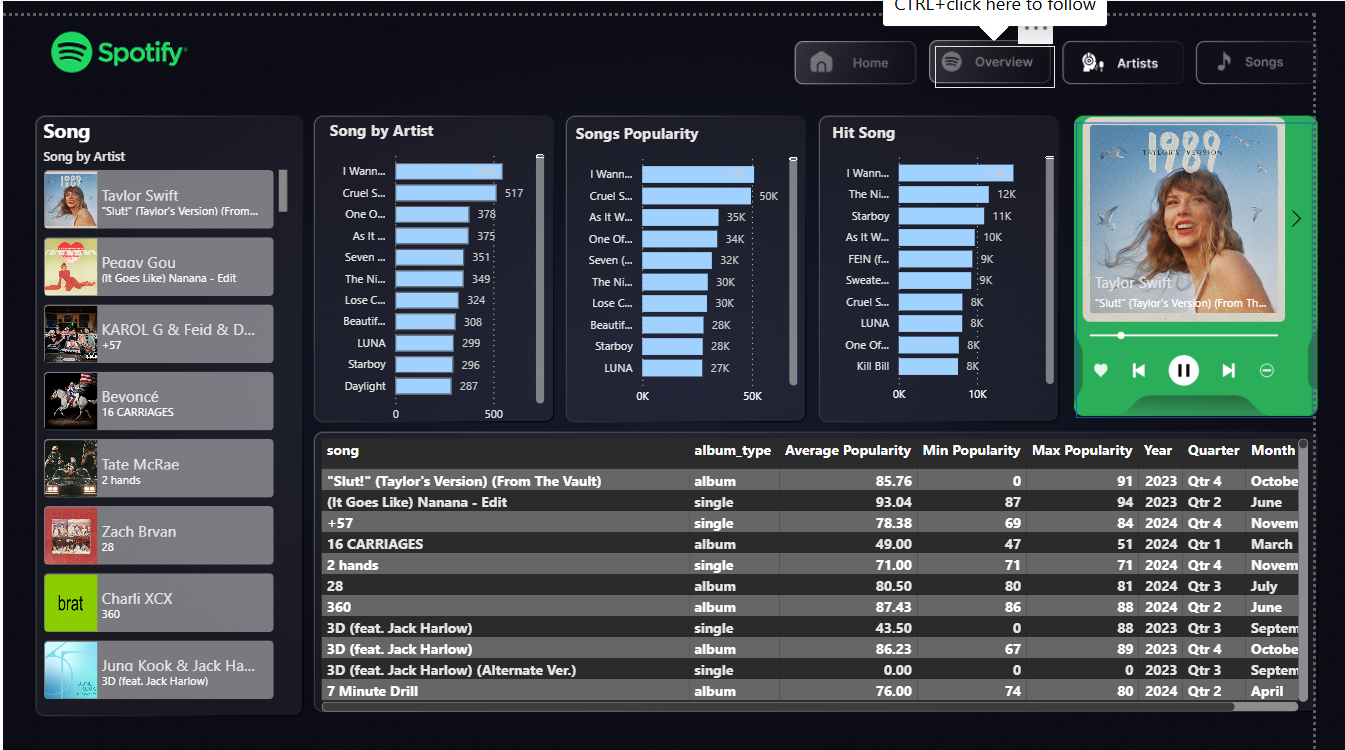

Layout of this report page (visuals, bound fields, positions):
{"tool":"powerbi","page":{"name":"Song ","canvas":[1280,720],"ordinal":3},"visuals":[{"type":"actionButton","box":[905.5,39.4,115.1,40.9],"z":0},{"type":"shape","box":[558.7,121.1,230.2,298.3],"z":0,"group":"g7"},{"type":"clusteredBarChart","title":"Song by Artist","fields":{"Category":["Top-50-world.song"],"Y":["CountNonNull(Top-50-world.artist)"]},"box":[315,127.4,228.6,298.3],"z":0,"group":"g6"},{"type":"group","id":"g1","title":"Group 2","box":[315,130.7,242.3,266.5],"z":0,"group":"g3"},{"type":"clusteredBarChart","title":"Hit Song","fields":{"Category":["Top-50-world.song"],"Y":["Sum(Top-50-world.position)"]},"box":[816.1,133.3,221.1,277.1],"z":0,"group":"g8"},{"type":"actionButton","box":[1034.2,48.5,115.1,40.9],"z":1},{"type":"actionButton","box":[1161.4,48.5,113.6,40.9],"z":2},{"type":"actionButton","box":[128.3,428.3,116.7,40],"z":3},{"type":"actionButton","box":[776.8,50,115.1,39.4],"z":4},{"type":"shape","box":[1041.4,90,238.6,300],"z":5},{"type":"group","id":"g2","title":"Group 1","box":[1034.2,122.7,245.3,337.7],"z":6},{"type":"advancedSlicerVisual","title":"Song","fields":{"Values":["Top-50-world.song"],"Label":["Min(Top-50-world.artist)"]},"box":[51.5,134.8,242.3,563.3],"z":7},{"type":"group","id":"g3","title":"Group 3","box":[315,130.7,242.3,266.5],"z":8},{"type":"tableEx","fields":{"Values":["Top-50-world.song","Top-50-world.album_type","Top-50-world.Average Popularity","Top-50-world.Min Popularity","Top-50-world.Max Popularity","Top-50-world.release_date.Variation.Date Hierarchy.Year","Top-50-world.release_date.Variation.Date Hierarchy.Quarter","Top-50-world.release_date.Variation.Date Hierarchy.Month","Top-50-world.release_date.Variation.Date Hierarchy.Day"]},"box":[313.4,428.5,949.4,269.5],"z":11},{"type":"group","id":"g4","title":"Group 2","box":[365.4,397.2,242.3,266.5],"z":12},{"type":"group","id":"g5","title":"Group 2","box":[612.2,390.7,228.6,304.4],"z":13},{"type":"group","id":"g6","title":"Group 3","box":[315,78.7,334.6,346.8],"z":14},{"type":"group","id":"g7","title":"Group 4","box":[558.7,121.1,230.2,298.3],"z":15},{"type":"group","id":"g8","title":"Group 5","box":[811.6,124.2,230.2,298.3],"z":16},{"type":"shape","box":[420.1,78.7,230.2,298.3],"z":1000,"group":"g6"},{"type":"shape","box":[811.6,124.2,230.2,298.3],"z":1000,"group":"g8"},{"type":"clusteredBarChart","title":"Songs Popularity","fields":{"Category":["Top-50-world.song"],"Y":["Sum(Top-50-world.popularity)"]},"box":[565.1,128.5,221.1,277.1],"z":1000,"group":"g7"},{"type":"advancedSlicerVisual","title":"Song","fields":{"Values":["Top-50-world.song"],"Label":["Min(Top-50-world.artist)"]},"box":[1034.2,122.7,245.3,207.4],"z":7000,"group":"g2"},{"type":"image","box":[1034.2,259,245.3,201.4],"z":8000,"group":"g2"},{"type":"shape","box":[1053.9,134.8,225.6,281.6],"z":9000,"group":"g2"},{"type":"shape","box":[315,130.7,242.3,266.5],"z":25002,"group":"g1"},{"type":"shape","box":[612.2,390.7,228.6,304.4],"z":25002,"group":"g5"},{"type":"shape","box":[365.4,397.2,242.3,266.5],"z":25002,"group":"g4"}]}

Visuals, with their boxes on the page's 1280x720 design canvas (x1, y1, x2, y2). These are canvas units, not pixel positions in the 1345x750 screenshot, which may show the page scaled, cropped or inside an application window:
actionButton: [left=906, top=39, right=1021, bottom=80]
shape: [left=559, top=121, right=789, bottom=419]
"Song by Artist" clusteredBarChart: [left=315, top=127, right=544, bottom=426]
"Group 2" group: [left=315, top=131, right=557, bottom=397]
"Hit Song" clusteredBarChart: [left=816, top=133, right=1037, bottom=410]
actionButton: [left=1034, top=48, right=1149, bottom=89]
actionButton: [left=1161, top=48, right=1275, bottom=89]
actionButton: [left=128, top=428, right=245, bottom=468]
actionButton: [left=777, top=50, right=892, bottom=89]
shape: [left=1041, top=90, right=1280, bottom=390]
"Group 1" group: [left=1034, top=123, right=1280, bottom=460]
"Song" advancedSlicerVisual: [left=52, top=135, right=294, bottom=698]
"Group 3" group: [left=315, top=131, right=557, bottom=397]
tableEx - Top-50-world.song x Top-50-world.album_type: [left=313, top=428, right=1263, bottom=698]
"Group 2" group: [left=365, top=397, right=608, bottom=664]
"Group 2" group: [left=612, top=391, right=841, bottom=695]
"Group 3" group: [left=315, top=79, right=650, bottom=426]
"Group 4" group: [left=559, top=121, right=789, bottom=419]
"Group 5" group: [left=812, top=124, right=1042, bottom=422]
shape: [left=420, top=79, right=650, bottom=377]
shape: [left=812, top=124, right=1042, bottom=422]
"Songs Popularity" clusteredBarChart: [left=565, top=128, right=786, bottom=406]
"Song" advancedSlicerVisual: [left=1034, top=123, right=1280, bottom=330]
image: [left=1034, top=259, right=1280, bottom=460]
shape: [left=1054, top=135, right=1280, bottom=416]
shape: [left=315, top=131, right=557, bottom=397]
shape: [left=612, top=391, right=841, bottom=695]
shape: [left=365, top=397, right=608, bottom=664]
